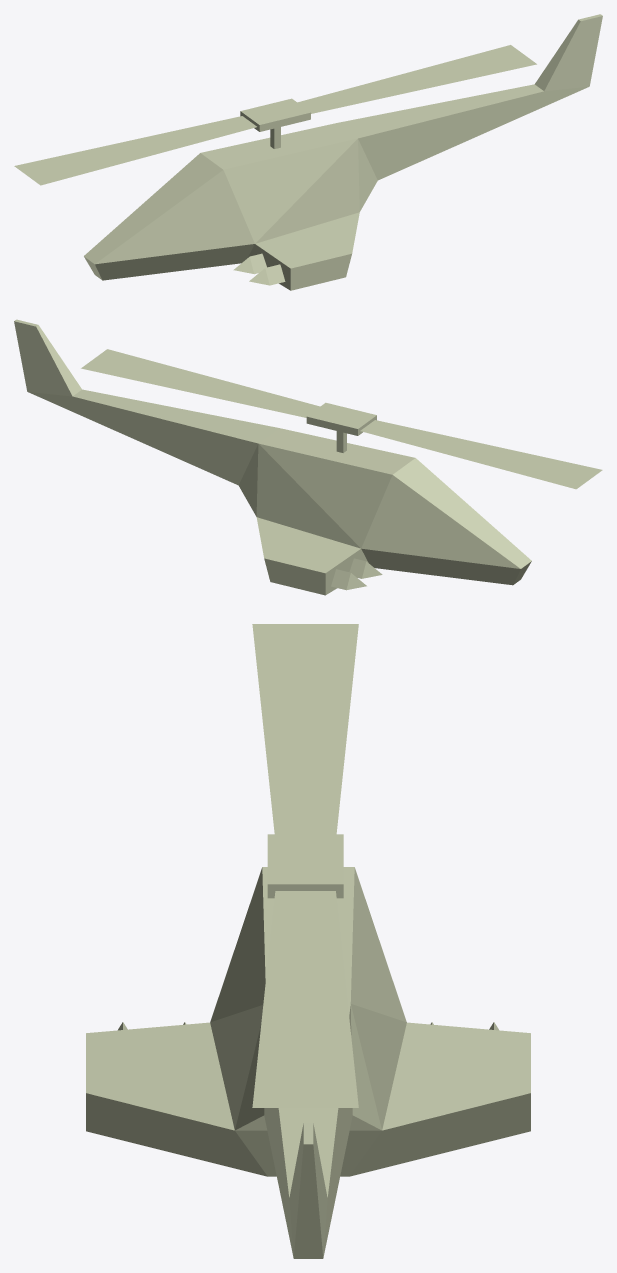
The model's file is Helicopter.obj.
The picture shows the model from 3 angles, top to bottom: view 1: azimuth 30°, elevation 25°; view 2: azimuth 150°, elevation 25°; view 3: azimuth 270°, elevation 25°; orthographic projection. The views are drawn at different scales.
Visible parts, largest first — view 1: Helicopter_B, HelicopterScrew_B; view 2: Helicopter_B, HelicopterScrew_B; view 3: Helicopter_B, HelicopterScrew_B.
Part boxes in pixels (x1,y1,x2,y2): Helicopter_B: (84,14,602,290); HelicopterScrew_B: (14,45,536,185); Helicopter_B: (14,319,531,595); HelicopterScrew_B: (81,349,602,489); Helicopter_B: (86,867,530,1258); HelicopterScrew_B: (252,624,358,1107).
Size of the model in its own units: 202 by 49.2 by 67.95.
